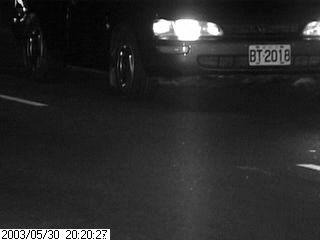plate: (248, 41, 292, 67)
